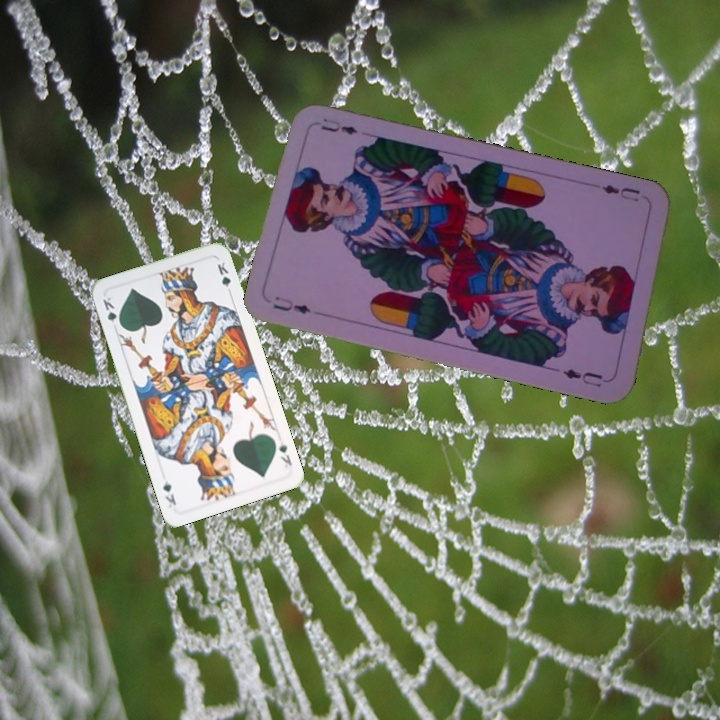EU: (269, 292, 314, 317), (598, 180, 642, 205)
GK: (99, 293, 124, 332), (275, 437, 294, 471)
